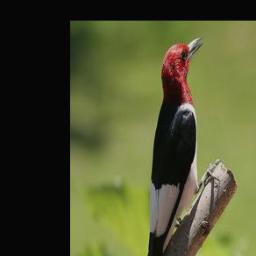Woodpecker: (138, 32, 208, 256)
